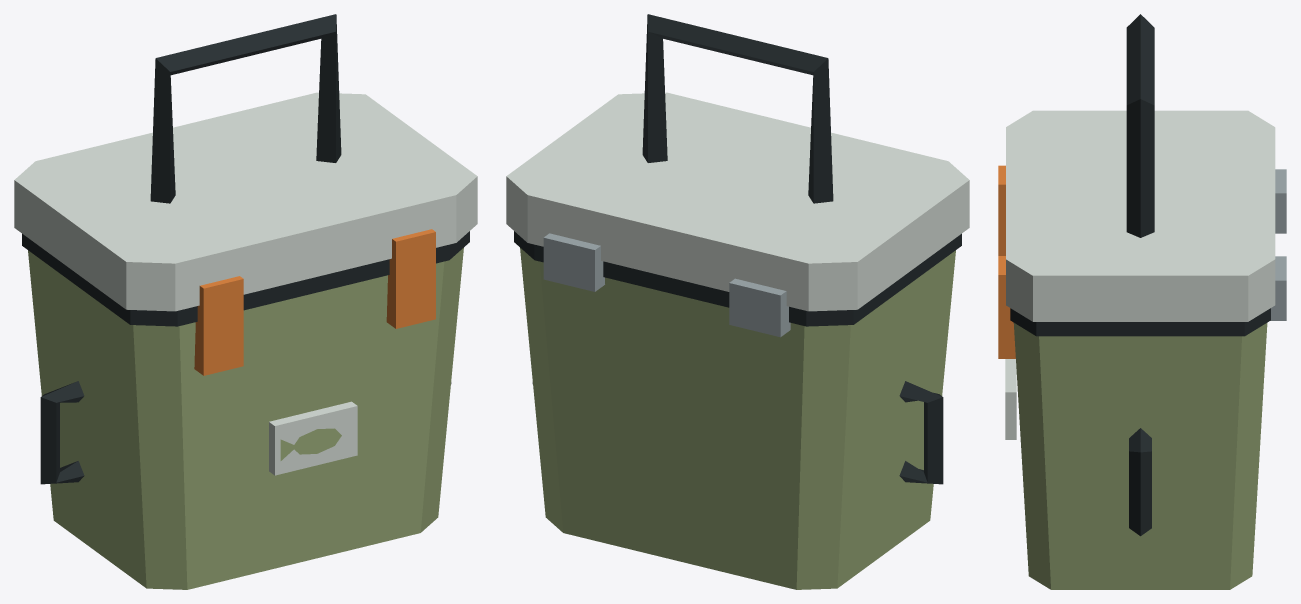
Rendered from micro_box.glb.
3 views of the same model, side by side, from view 1: azimuth 30°, elevation 25°; view 2: azimuth 150°, elevation 25°; view 3: azimuth 270°, elevation 25° (orthographic). The views are drawn at different scales.
Parts seen in each view (by area): view 1: micro_box__micro_box body, micro_box__Insulated lid, micro_box__Rubber and grip, micro_box__Safety orange; view 2: micro_box__micro_box body, micro_box__Insulated lid, micro_box__Rubber and grip, micro_box__Stainless fittings; view 3: micro_box__micro_box body, micro_box__Insulated lid, micro_box__Rubber and grip, micro_box__Safety orange, micro_box__Stainless fittings.
Part boxes in pixels (left/top/right/bottom): micro_box__micro_box body: left=28, top=248, right=463, bottom=589; micro_box__Insulated lid: left=14, top=92, right=477, bottom=475; micro_box__Rubber and grip: left=22, top=14, right=469, bottom=484; micro_box__Safety orange: left=194, top=229, right=435, bottom=375; micro_box__micro_box body: left=520, top=248, right=955, bottom=589; micro_box__Insulated lid: left=506, top=92, right=969, bottom=311; micro_box__Rubber and grip: left=514, top=14, right=961, bottom=484; micro_box__Stainless fittings: left=543, top=233, right=790, bottom=337; micro_box__micro_box body: left=1013, top=323, right=1267, bottom=589; micro_box__Insulated lid: left=1005, top=110, right=1275, bottom=439; micro_box__Rubber and grip: left=1010, top=14, right=1270, bottom=536; micro_box__Safety orange: left=998, top=165, right=1015, bottom=358; micro_box__Stainless fittings: left=1270, top=169, right=1286, bottom=320.
Size of the model in its own units: 0.3591 by 0.4038 by 0.227.
